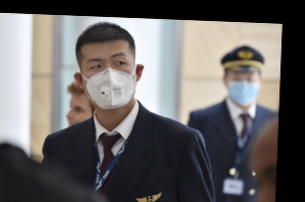with_mask: (80, 49, 137, 109), (227, 72, 261, 108)
